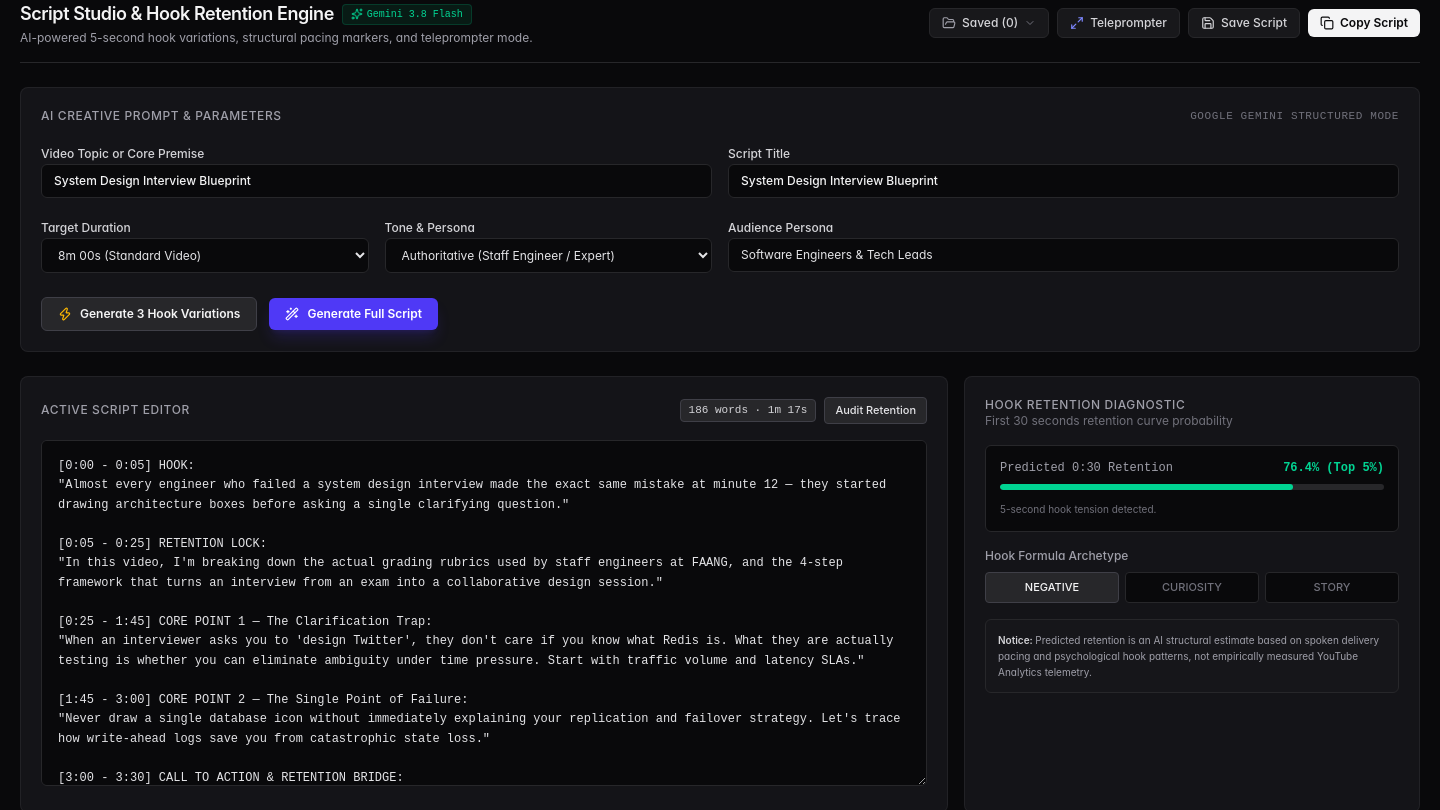
Test: ScriptStudioPage Component Tests › opens teleprompter modal and allows speed adjustment
Click the button "Teleprompter".
click(1118, 23)  # box x1=1057 y1=8 x2=1180 y2=38
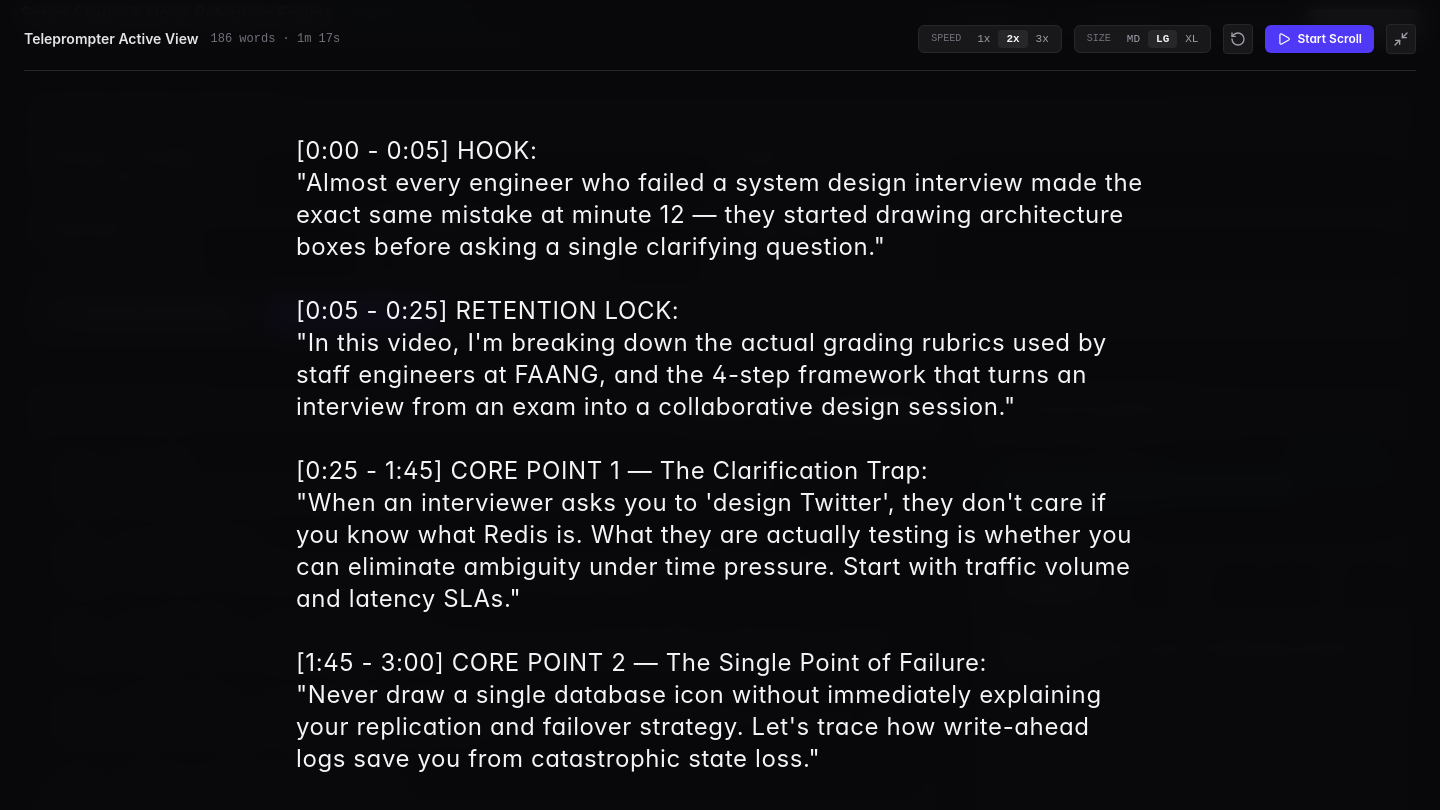
expect the text "Teleprompter Active View" is shown: met, box x1=24 y1=29 x2=199 y2=49
expect the button "Start Scroll" is shown: met
// Toggle scroll
Click the button "Start Scroll".
click(1320, 39)  # box x1=1266 y1=25 x2=1374 y2=53
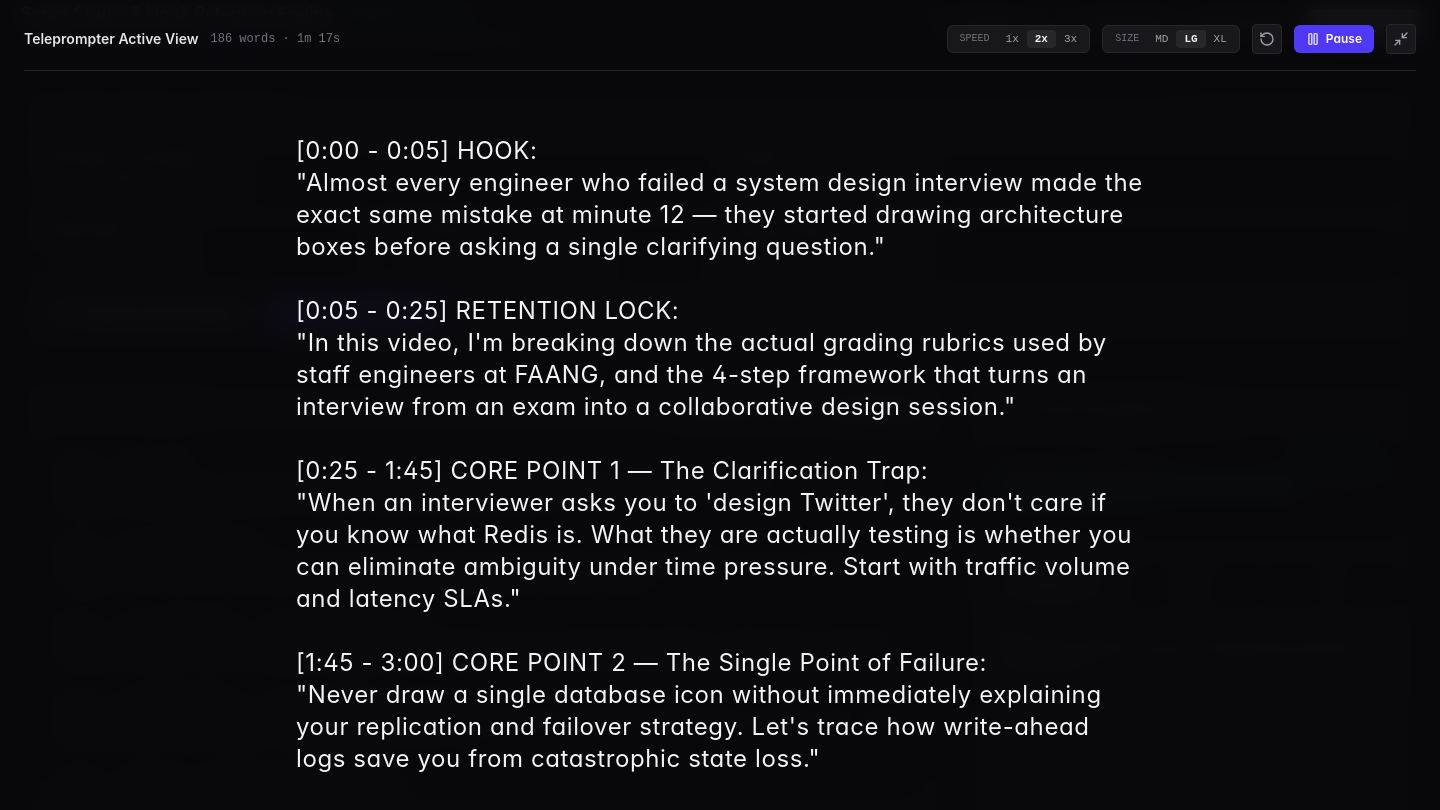
expect the button "Pause" is shown: met, box x1=1294 y1=25 x2=1374 y2=53
// Close teleprompter
Click the button titled "Close Teleprompter".
click(1401, 39)  # box x1=1386 y1=24 x2=1416 y2=54
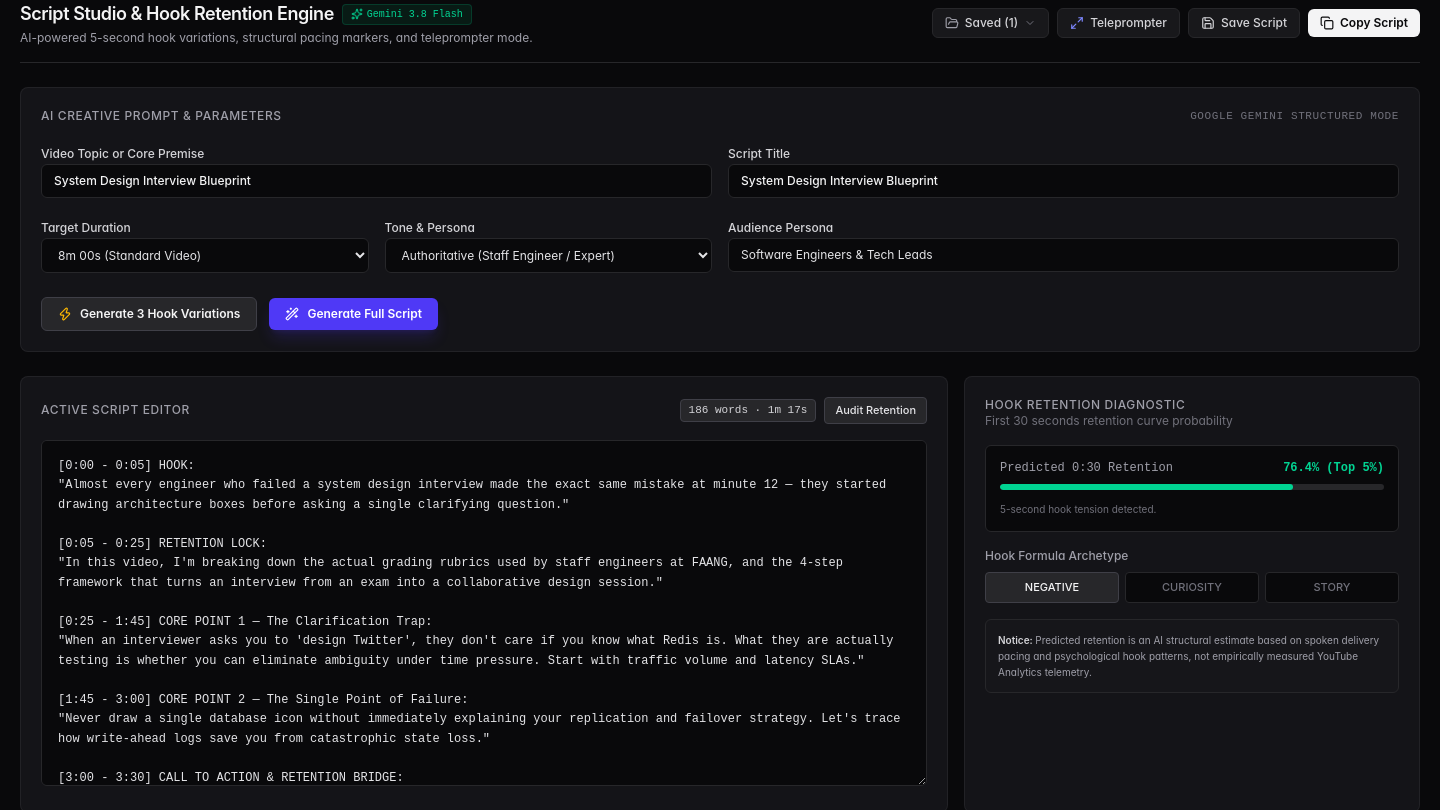
expect the text with test id "teleprompter-modal-title" is gone: met
